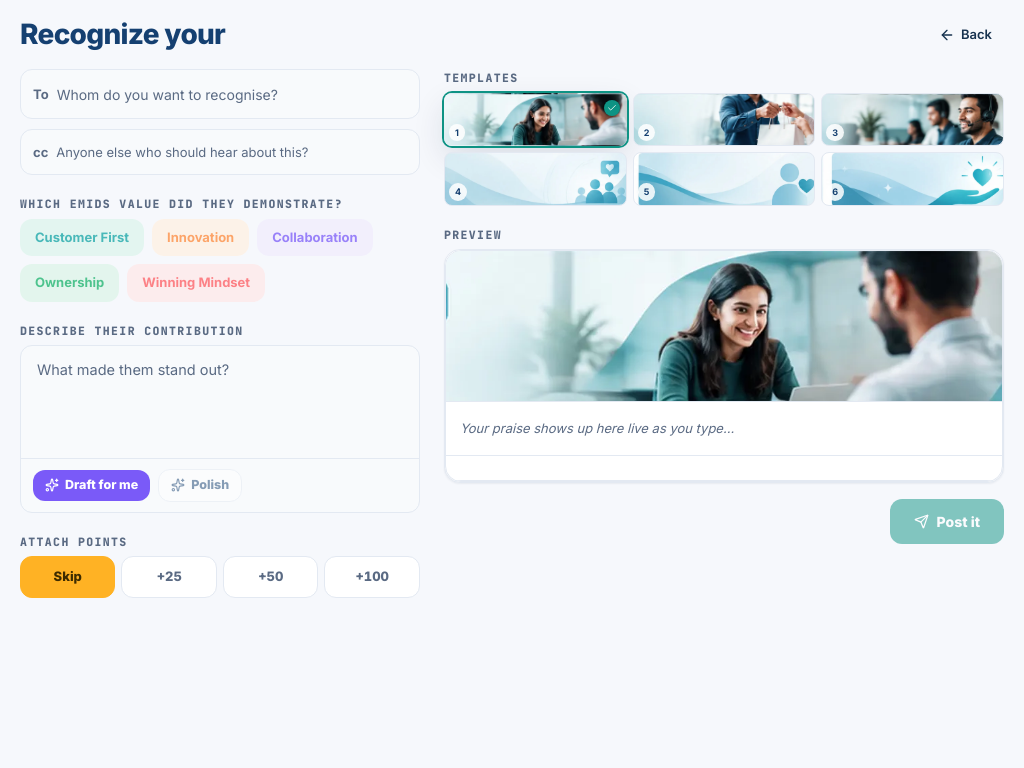
Scenario: ComposeForm extras (client interactions) › the CC field picks, labels managers, adds typed emails and removes chips
The width and height of the screenshot is (1024, 768).
Later steps or results of the test are not shown.
Type "priya" into the field with placeholder "Whom do you want to recognise?" at (232, 94), box [57,78,407,110]
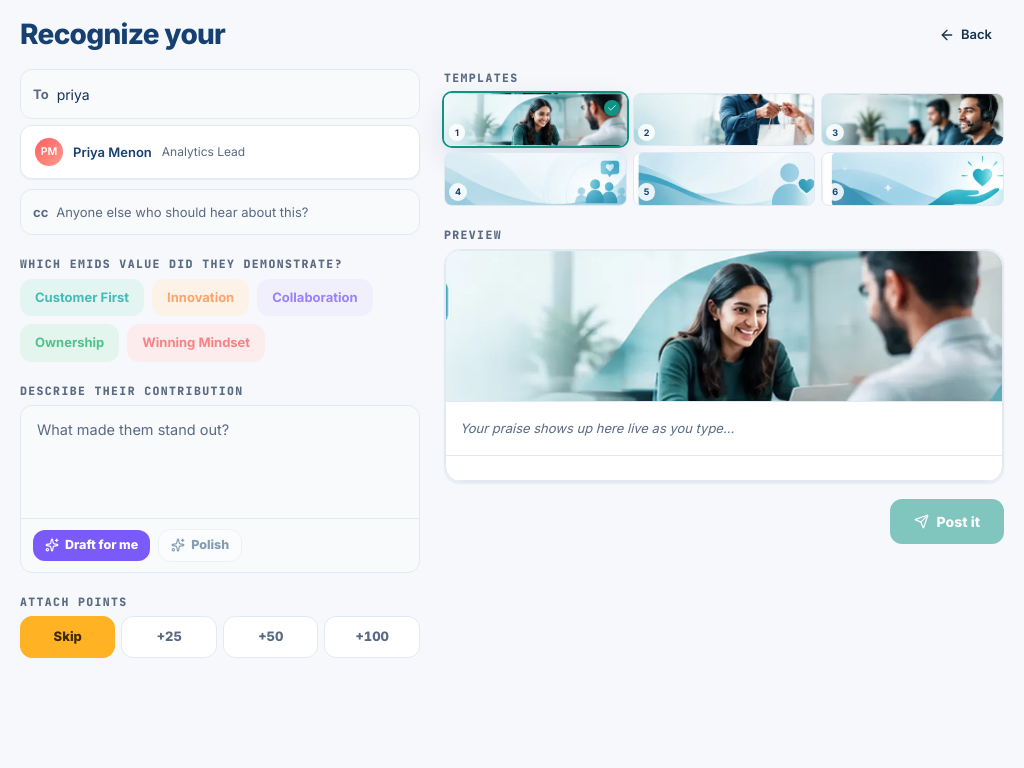
Click the text "Priya Menon" at (112, 152), box [73,143,152,162]
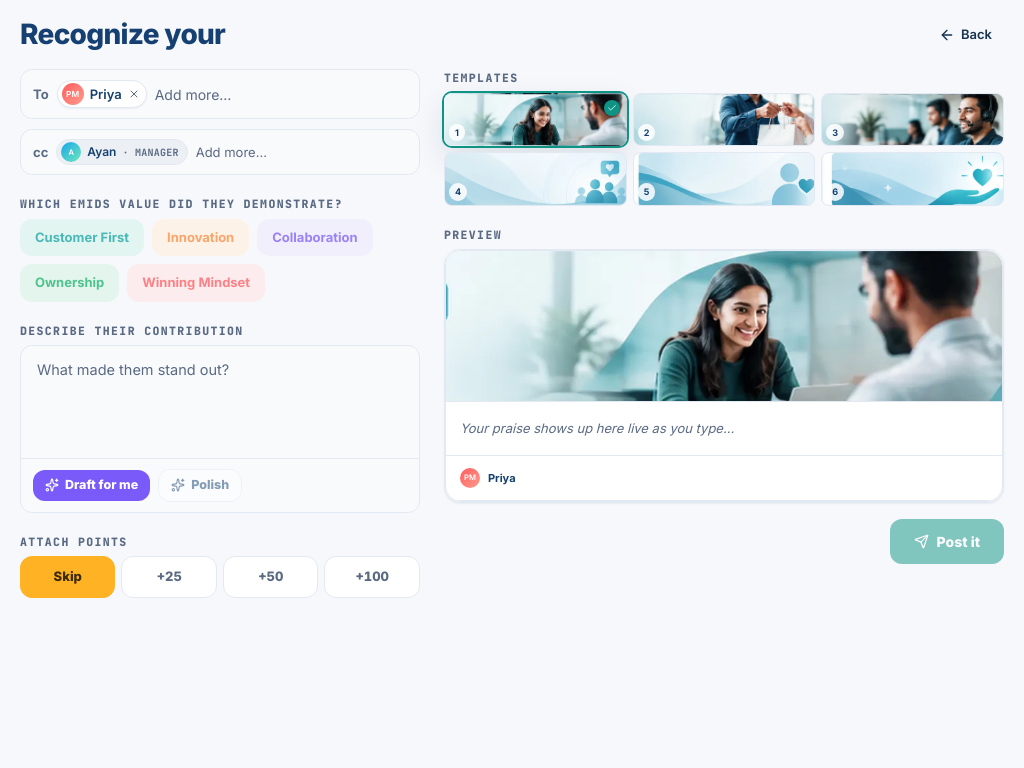
Type "kenji" into the field with placeholder "Add more…" next to "· manager" at (301, 152), box [196,138,407,166]
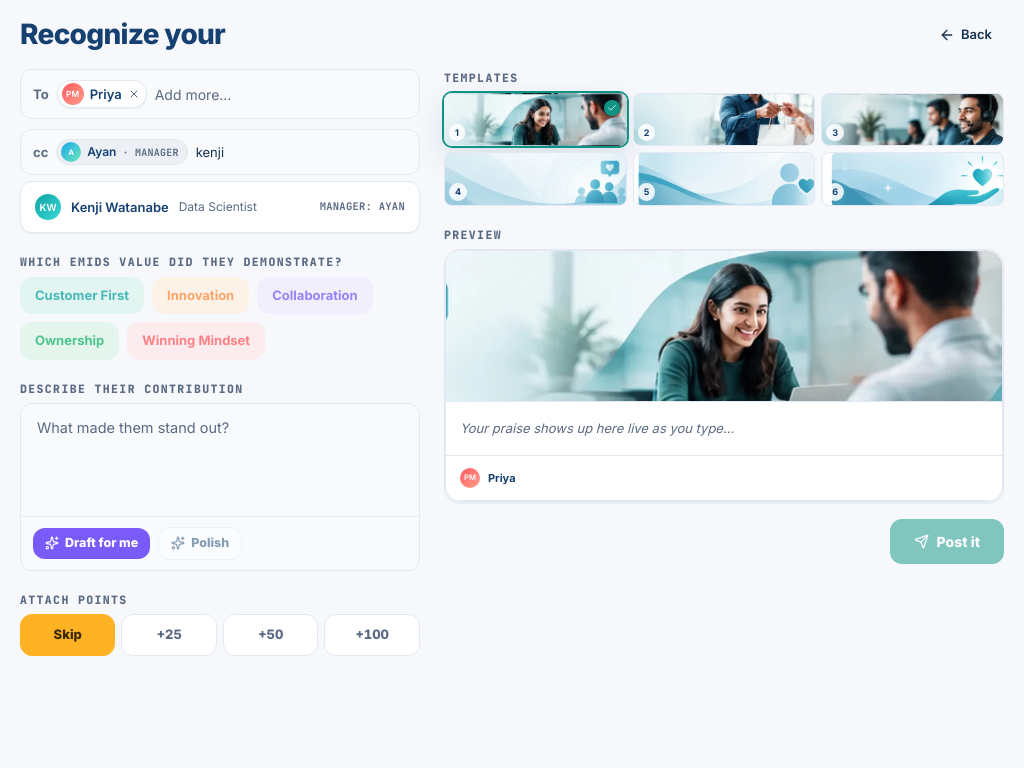
Click the text "Kenji Watanabe" at (120, 207), box [71,198,169,217]
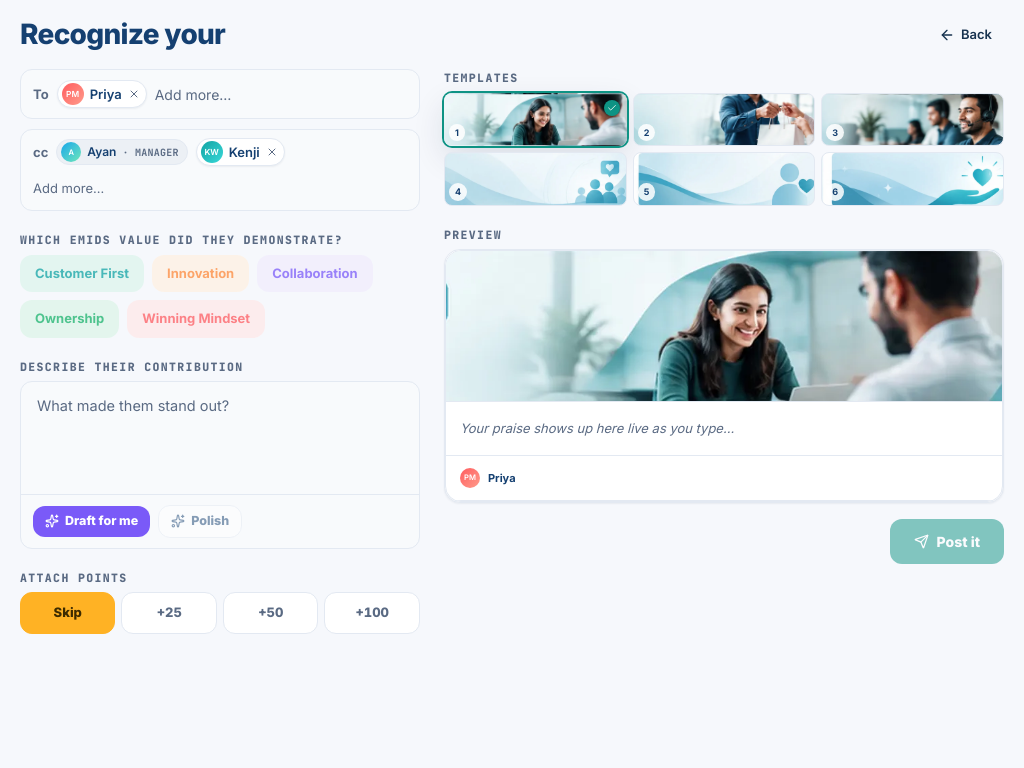
Now the text "Kenji" is shown, box [229,143,260,162]
